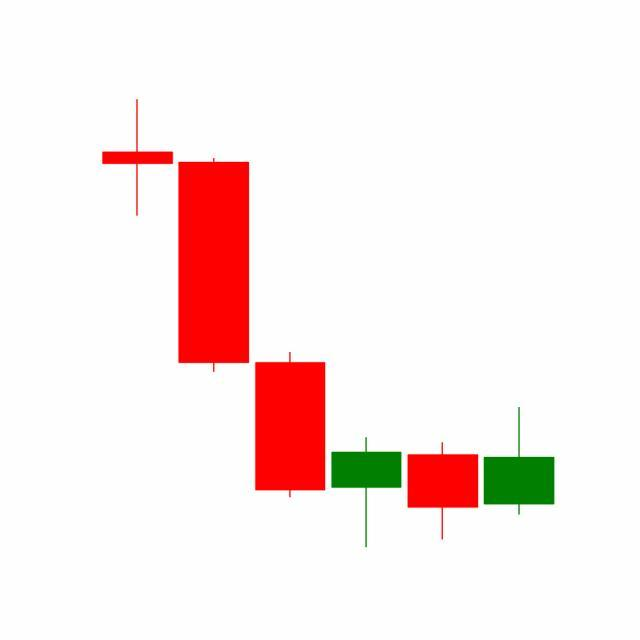Hikkake Pattern: (175, 154, 555, 549)
